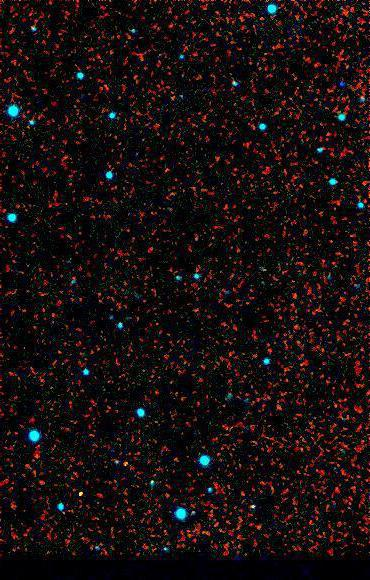star: (67, 478, 97, 508)
